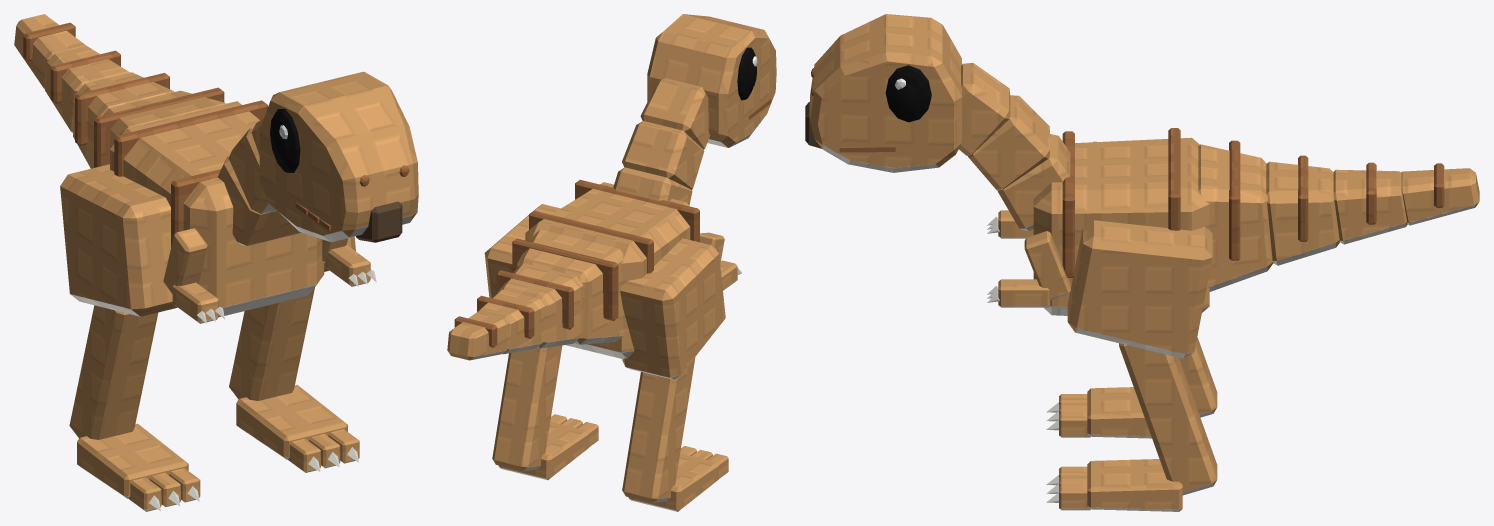
Rendered from bebe_03_Gallimimus.glb.
3 views of the same model, side by side, from view 1: azimuth 30°, elevation 25°; view 2: azimuth 150°, elevation 25°; view 3: azimuth 270°, elevation 25° (orthographic). The views are drawn at different scales.
Visible parts, largest first — view 1: bebe_03_Gallimimus; view 2: bebe_03_Gallimimus; view 3: bebe_03_Gallimimus.
Part boxes in pixels (x1,y1,x2,y2): bebe_03_Gallimimus: (14, 14, 418, 511); bebe_03_Gallimimus: (447, 14, 776, 511); bebe_03_Gallimimus: (805, 14, 1479, 511).
Size of the model in its own units: 1.15 by 2.18 by 3.11.
1 material, 1 textured.
